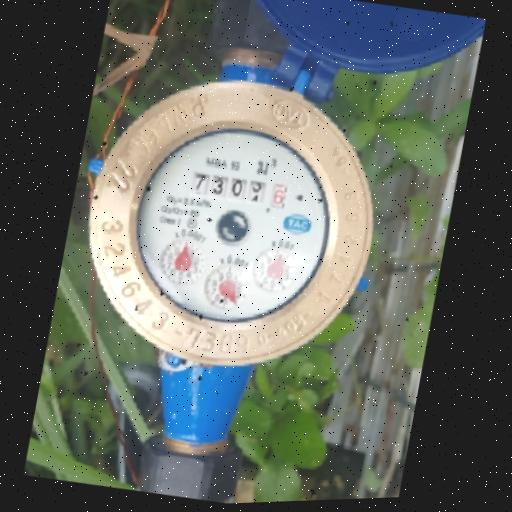0: (229, 177, 246, 201)
3: (248, 180, 266, 204), (210, 175, 227, 199)
6: (270, 182, 287, 208)
7: (191, 173, 209, 195)
border_water_meter_number: (188, 166, 289, 213)
